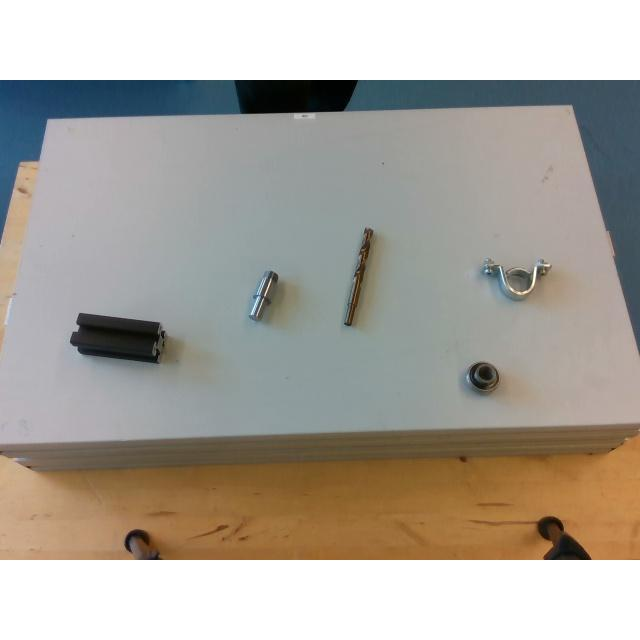Axis2: (249, 270, 277, 318)
Bearing2: (467, 361, 499, 392)
Drill: (344, 227, 372, 325)
Housing: (482, 258, 550, 298)
S40_40_B: (70, 312, 162, 361)
